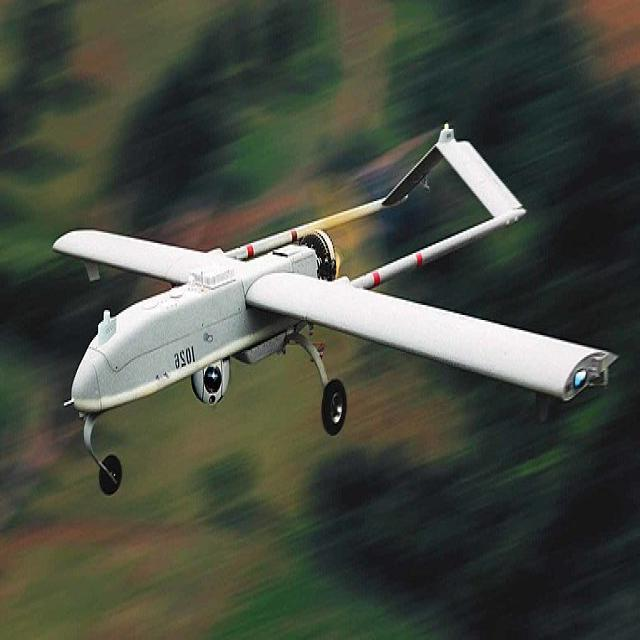iha: (58, 115, 621, 502)
